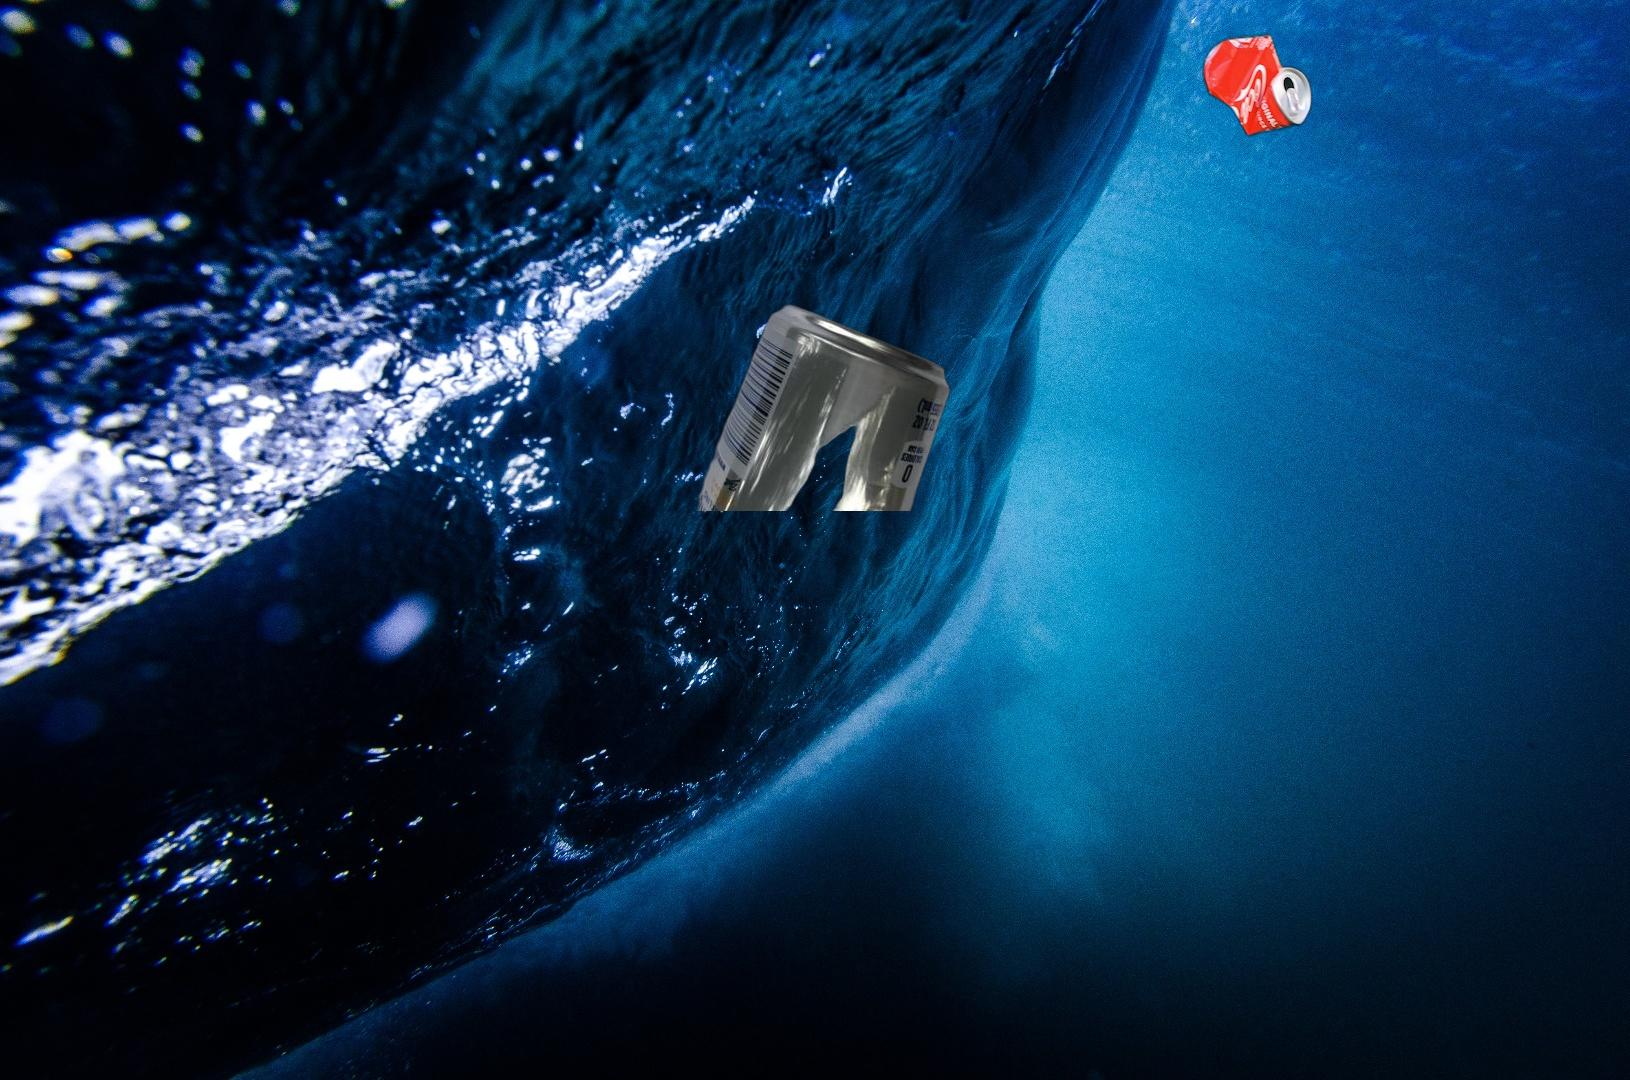metal-cans: (918, 28, 1430, 589), (693, 303, 954, 511)
